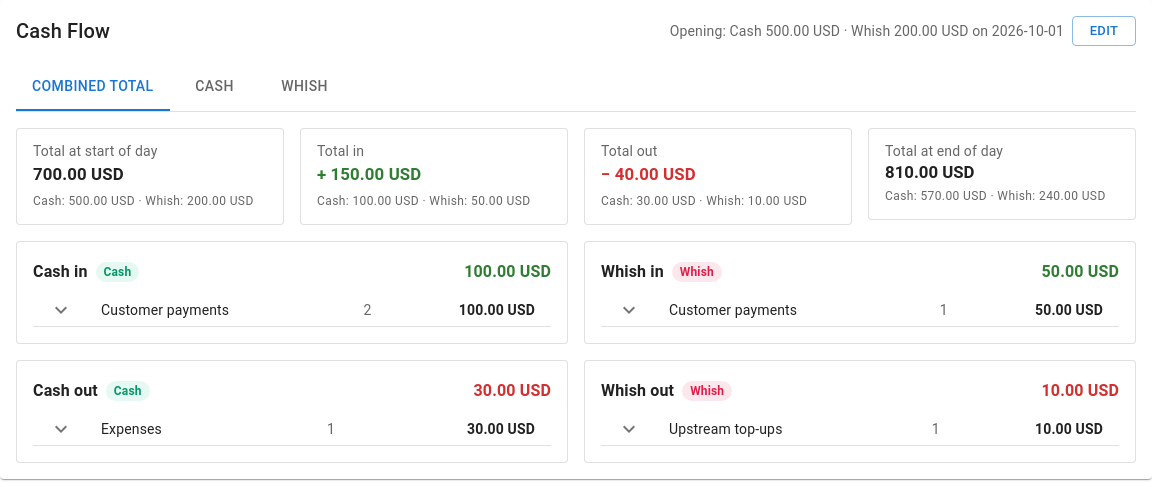
Test: DailyCashFlowSection › switches to Cash tab and displays only cash cards and sections
The width and height of the screenshot is (1152, 498).
Click the tab "Cash" at x=214, y=87, box [170,63,260,111]
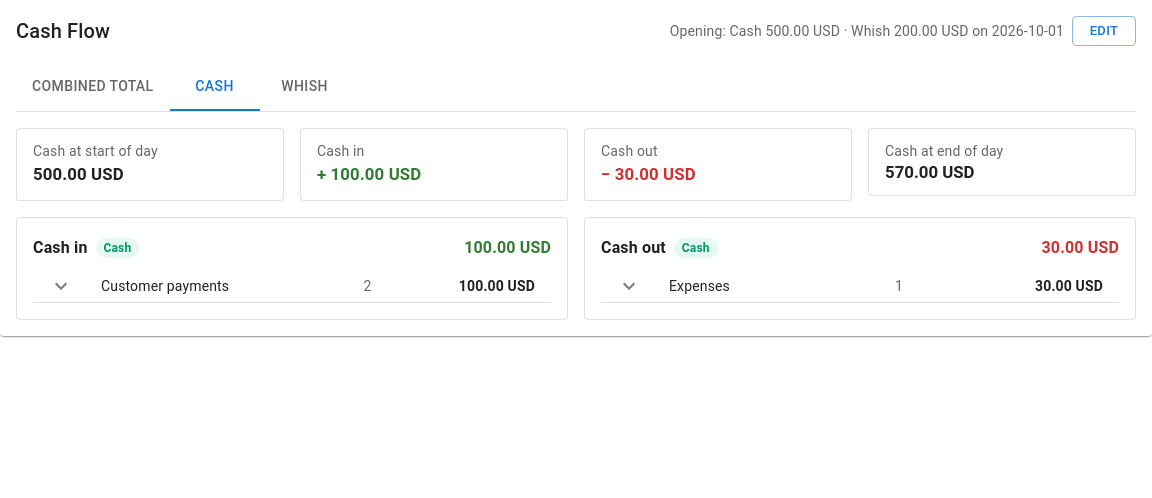
Expected: the text "Cash at start of day" is shown, [33,143,158,159]
Expected: the text "Cash at end of day" is shown, [885,143,1003,159]
Expected: the heading "570.00 USD" is shown, [885,162,974,182]
